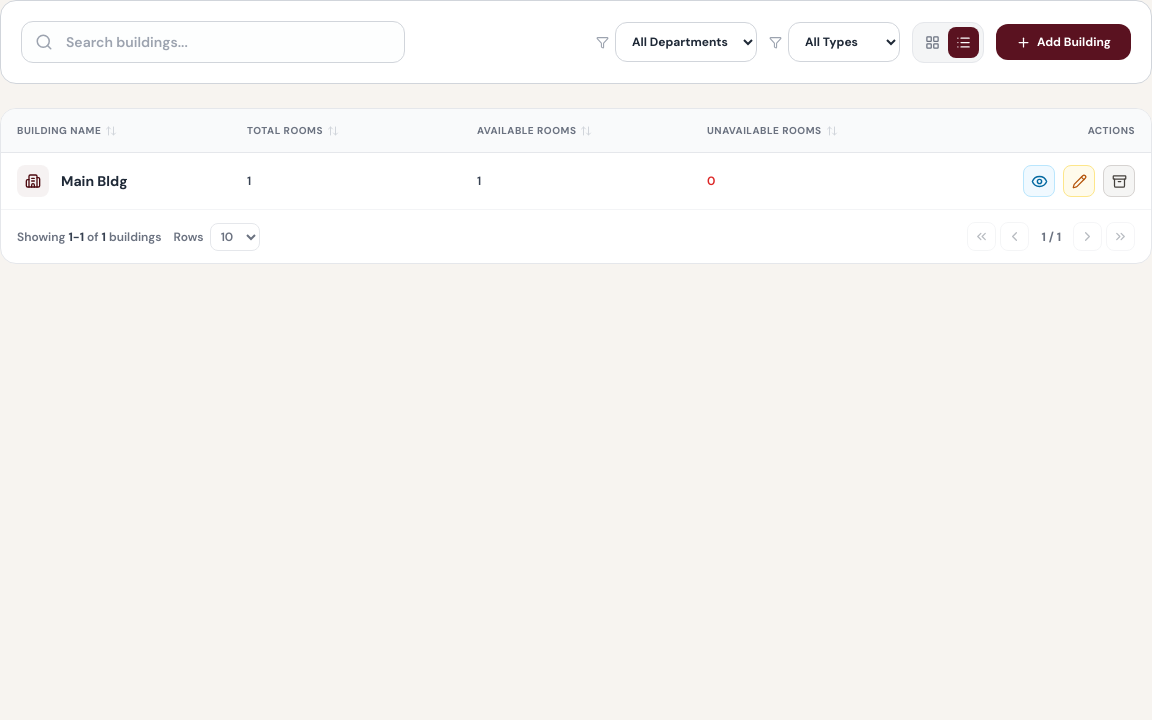
Scenario: Rooms component › confirms availability changes from the last action in Grid View
Click the text "Main Bldg" at (94, 181), box [61,171,128,191]
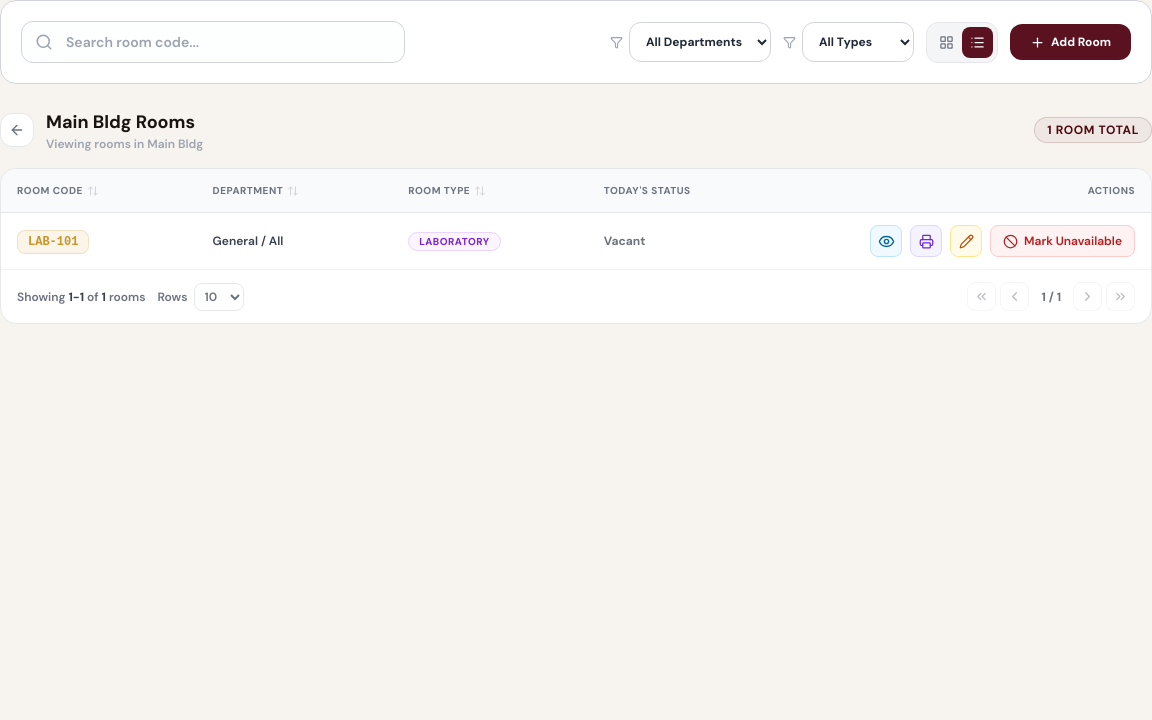
Click the button named "Grid View" at (947, 42), box [931,26,962,58]
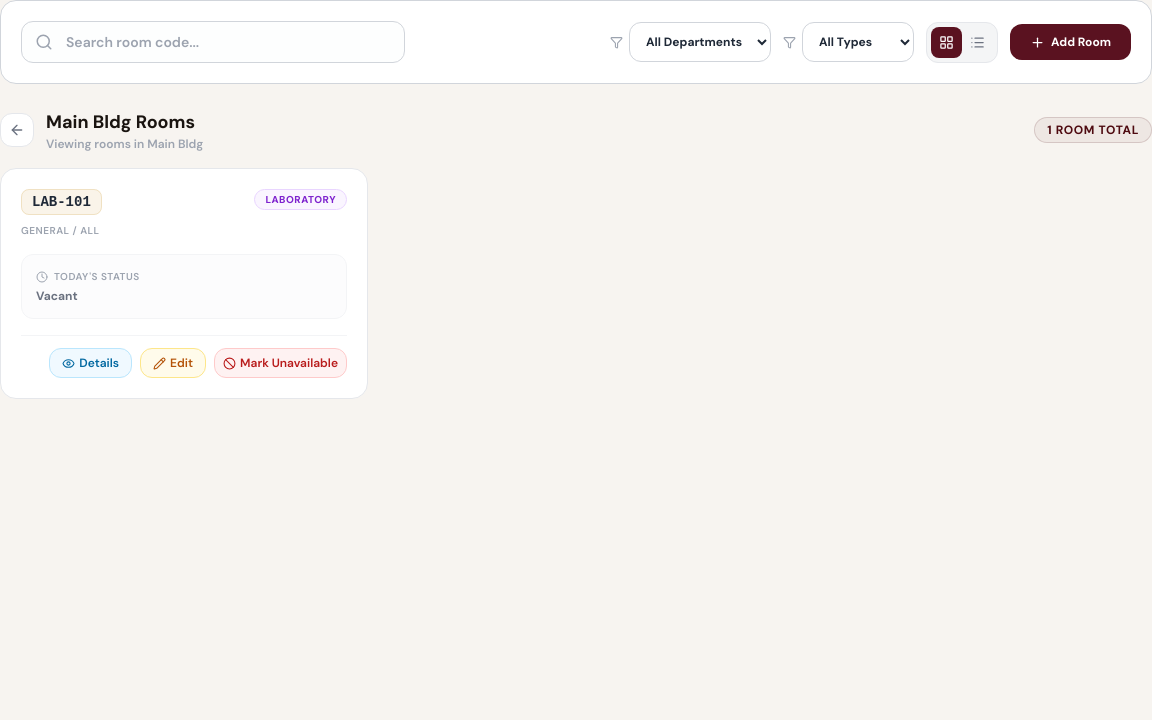
Click the button "Mark Unavailable" at (280, 363), box [214,348,347,378]
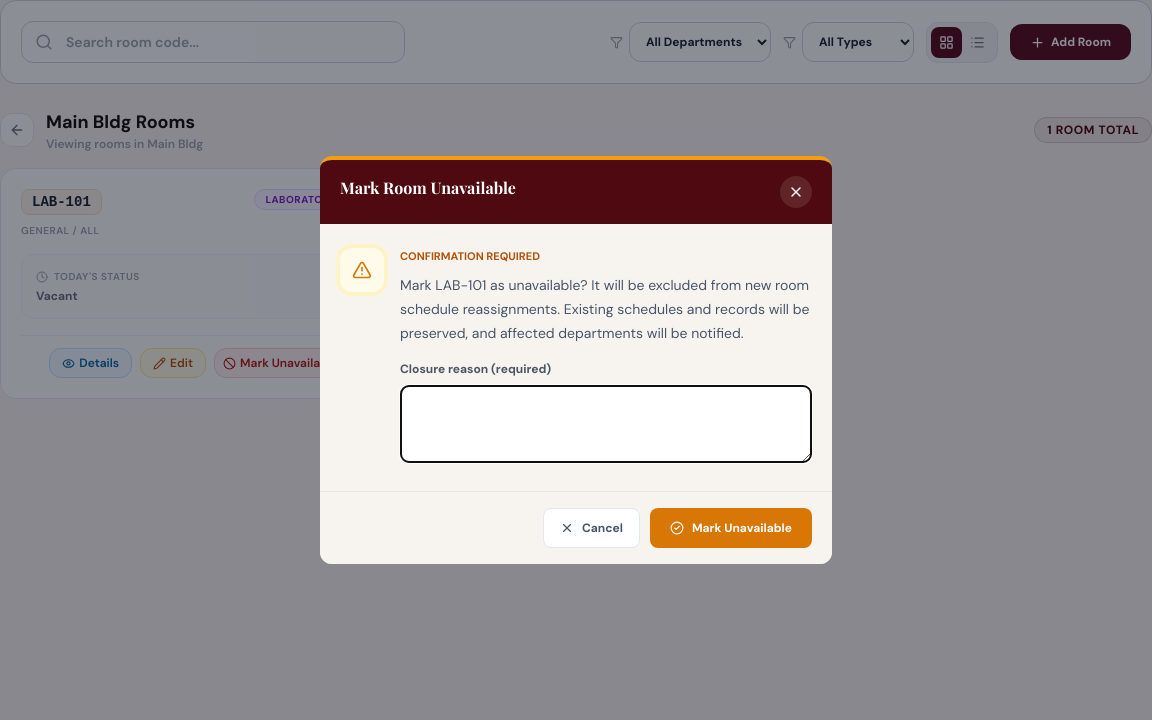
Check: the text "Mark LAB-101 as unavailable?" is shown, box [400,276,809,342]
Type " Laboratory maintenance " into the text box labelled "Closure reason (required)" at (606, 424), box [400,385,812,463]
Click the button "Mark Unavailable" at (731, 528), box [650,508,812,548]
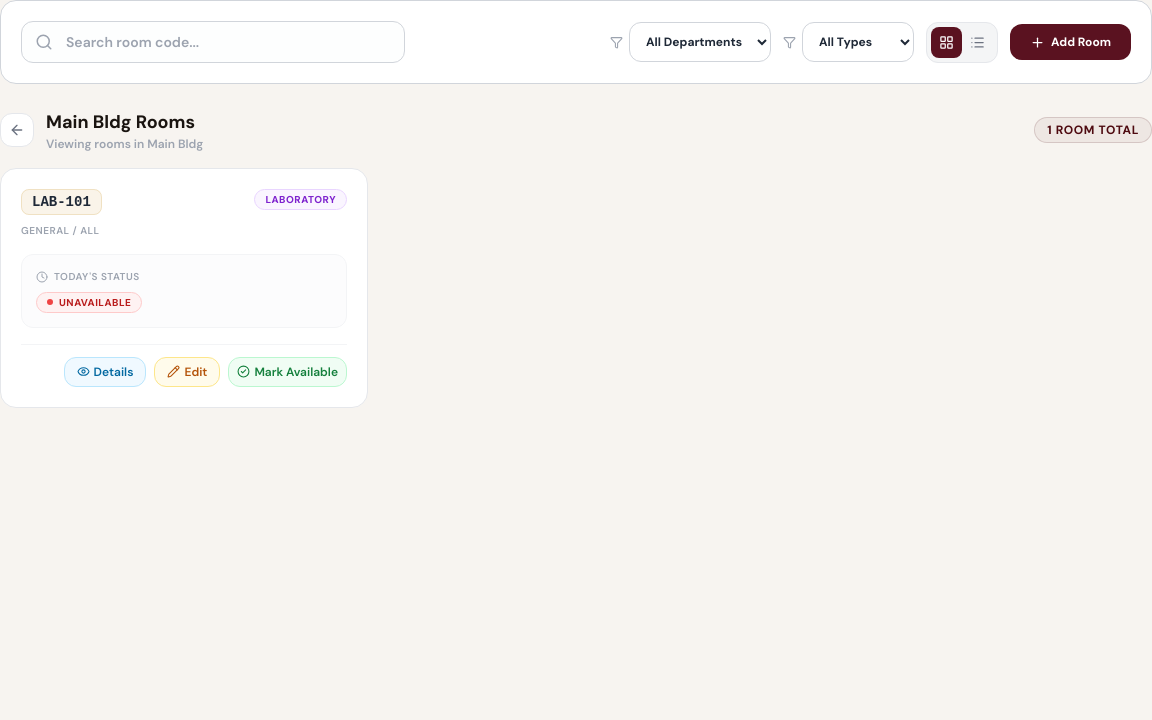
Check: the text "Unavailable" is shown, box [36,292,142,312]
Check: the dialog is gone
Check: the button "Mark Unavailable" is gone
Click the button "Mark Available" at (288, 372), box [228,356,347,386]
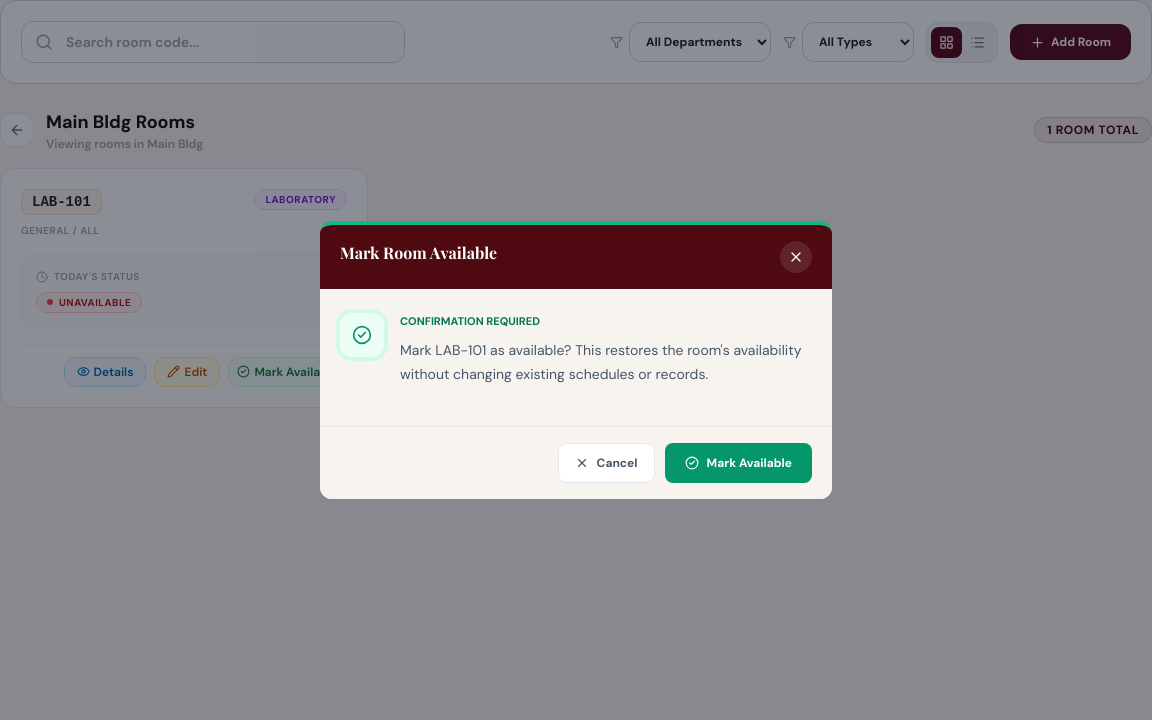
Check: the text "Mark LAB-101 as available?" is shown, box [400,341,801,383]
Click the button "Mark Available" at (738, 463), box [665,443,812,483]
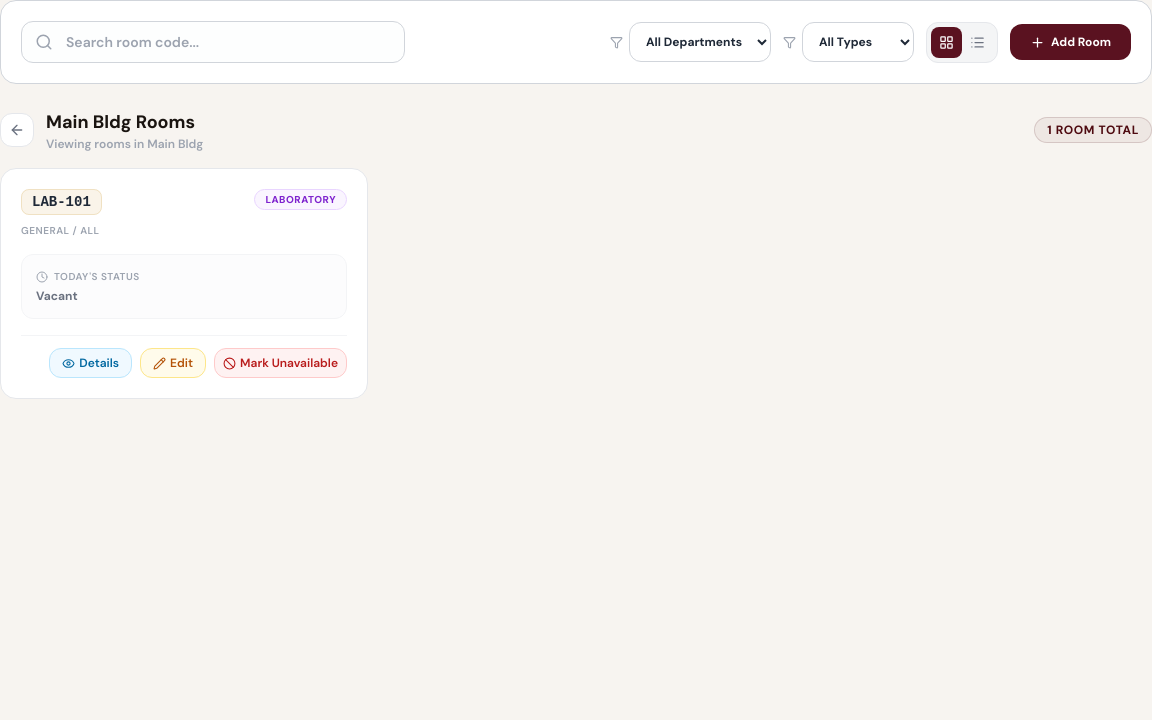
Check: the dialog is gone
Check: the button "Mark Unavailable" is shown, box [214,348,347,378]
Check: the button "Mark Available" is gone
